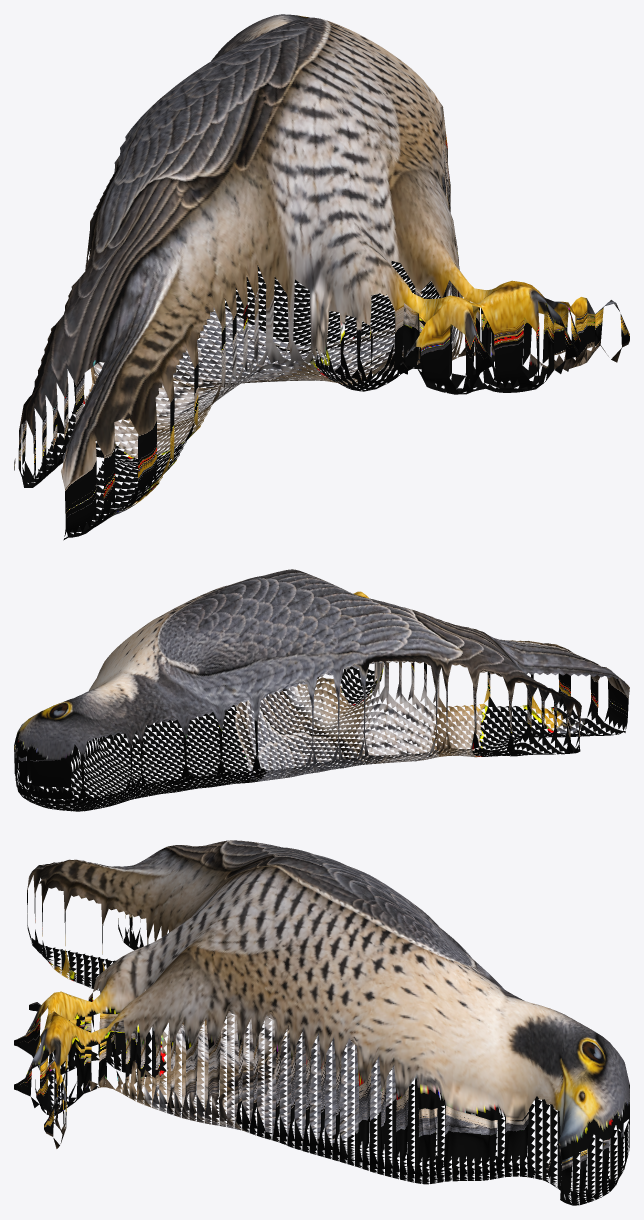
Rendered from falcon.glb.
3 renders of one model, top to bottom at view 1: azimuth 30°, elevation 25°; view 2: azimuth 150°, elevation 25°; view 3: azimuth 270°, elevation 25°, orthographic. The views are drawn at different scales.
Visible parts, largest first — view 1: falcon_obj; view 2: falcon_obj; view 3: falcon_obj.
Boxes of the visible parts, <box> form: falcon_obj: <box>14,14,629,540</box>; falcon_obj: <box>14,569,629,811</box>; falcon_obj: <box>14,840,629,1205</box>.
Bounding box in the file's own units: 1.76 × 0.819 × 1.71.
1 material, 1 textured.
